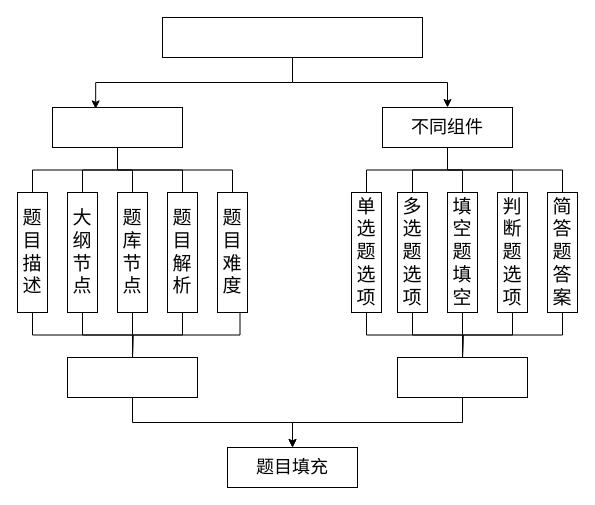
The diagram is 595 pixels wide and 505 high, and some of its shapes have lost their labels. Here are the shapes that lost their labels. From the top down, the centre of each, then its label:
At [292,37]: "表单的复用".
At [117,127]: "抽离公共字段".
At [132,377]: "公共字段填充".
At [462,377]: "非公共字段填充".
